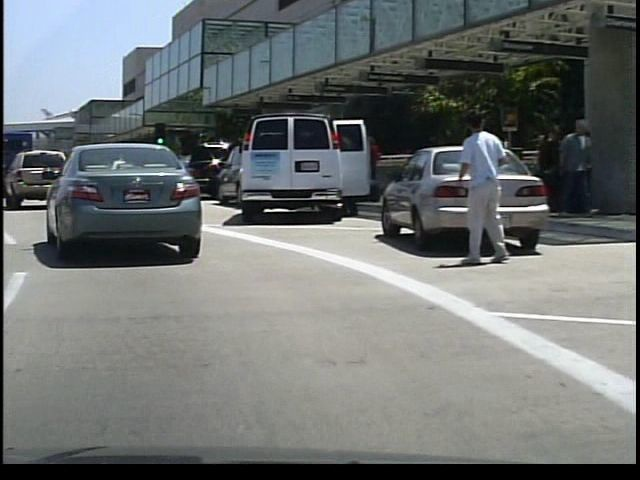person: (451, 105, 508, 268), (552, 116, 590, 218), (539, 119, 564, 218), (358, 130, 381, 197)
